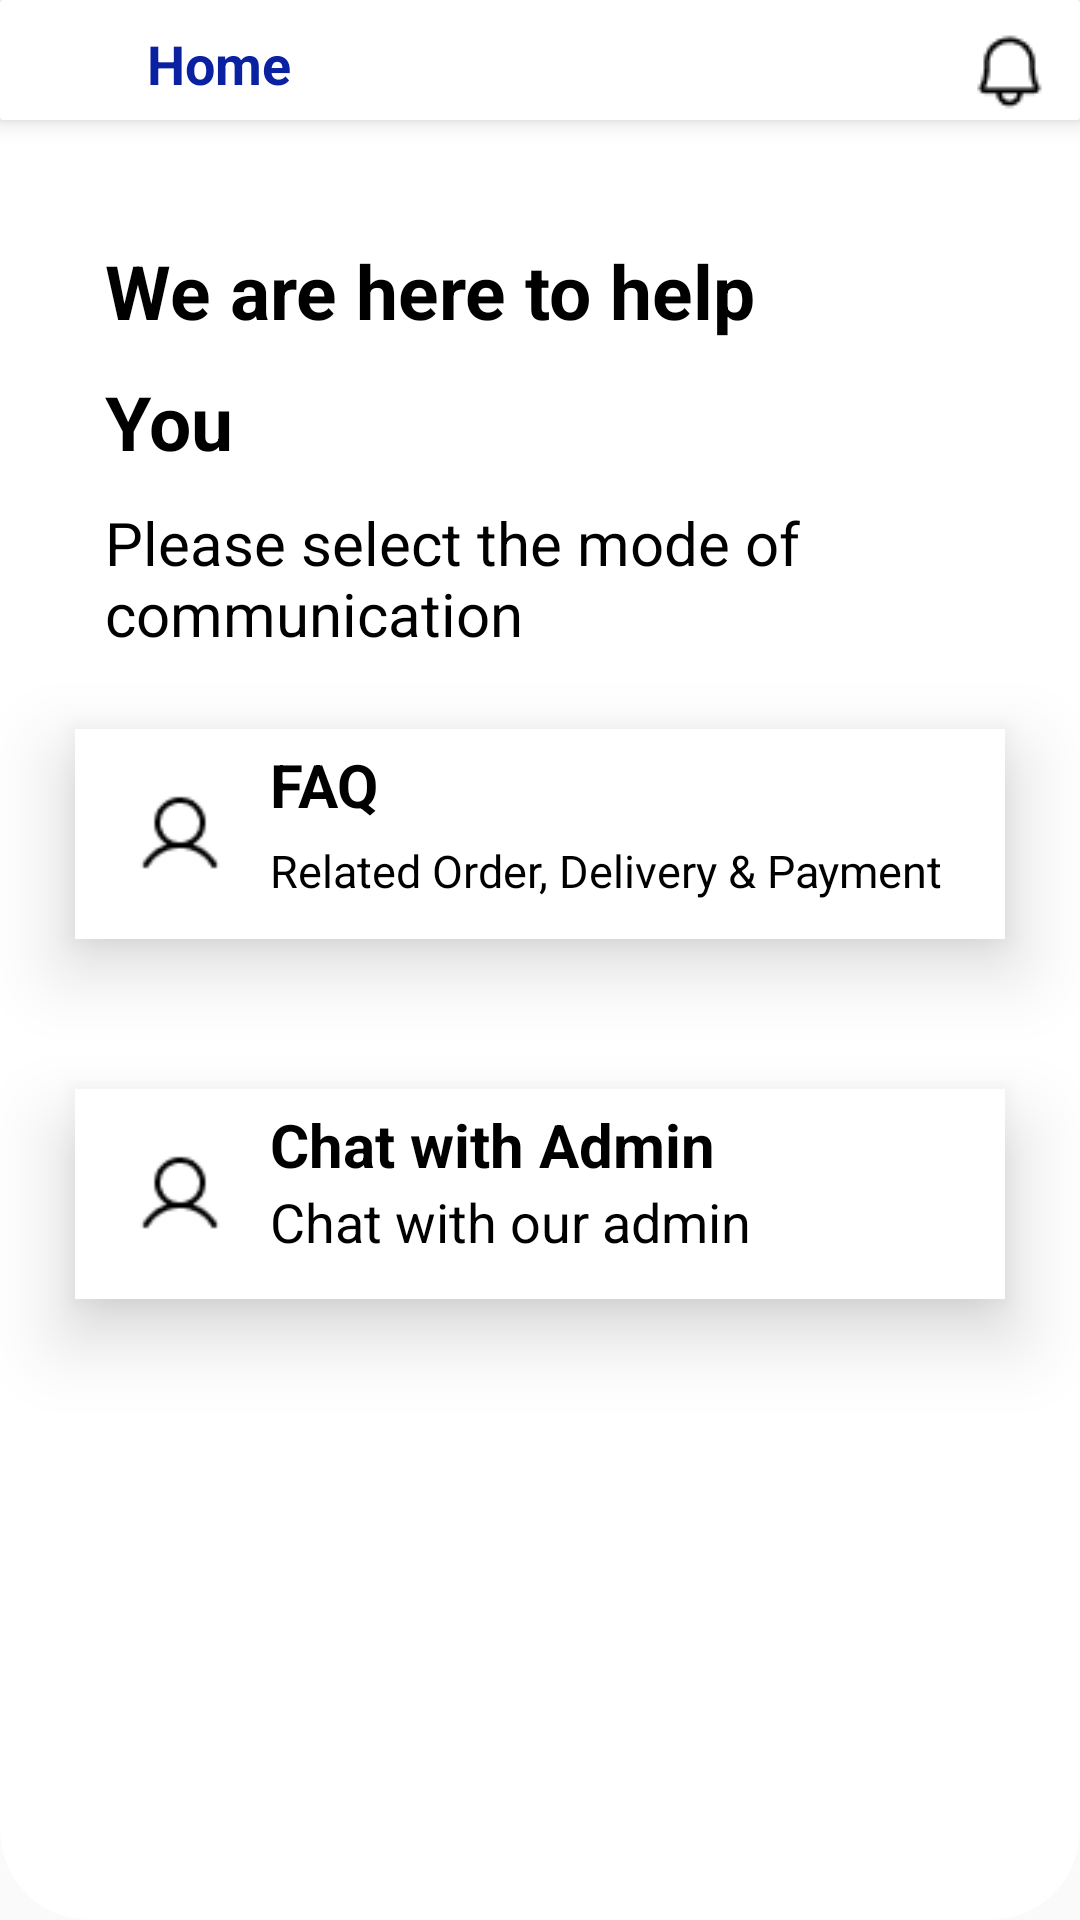

Locate icon controls on the screen. Image size 1080 x 1920, boxes as rect(x1, y1, x2, y2).
bell: rect(977, 35, 1042, 108)
user: rect(142, 796, 218, 869), rect(142, 1156, 218, 1229)
